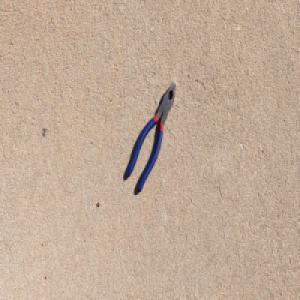Pliers: (125, 81, 177, 194)
